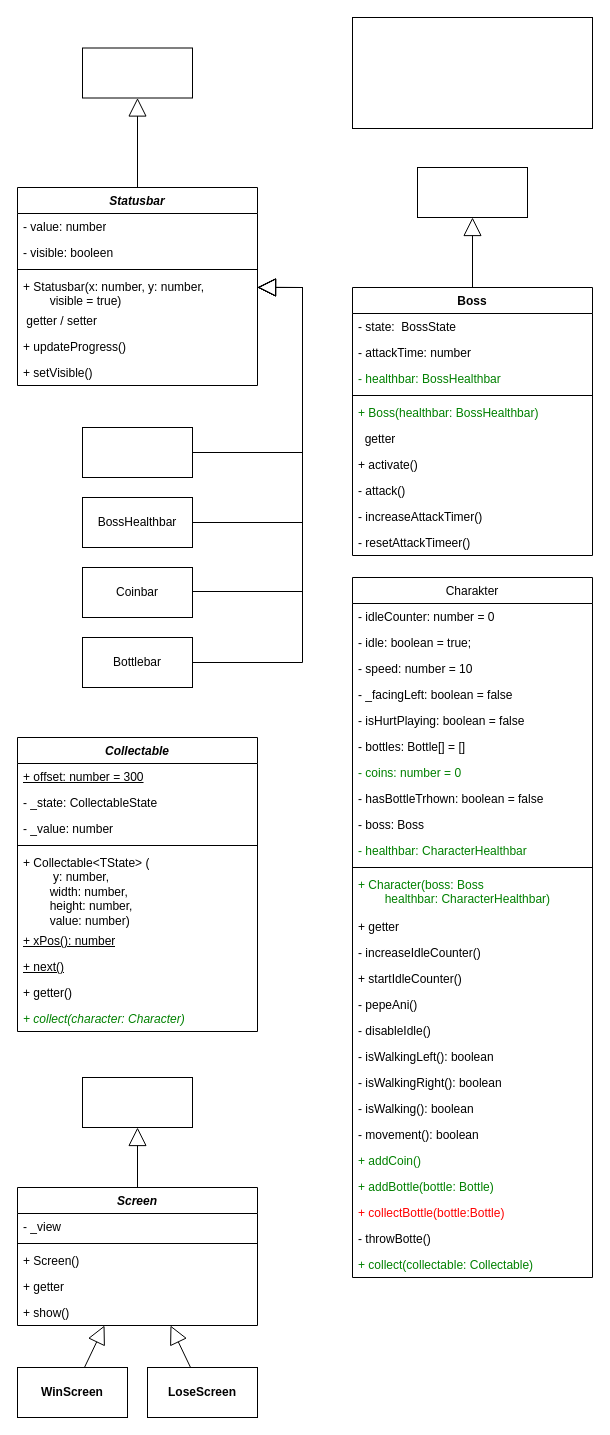
This 610x1435 diagram has some shape labels left out. Each missing label, with the centre of its shape:
"<<Enumeration>> BossState idle, walk, attack, hurt" goes at point (472, 72).
"AnimatedOject" goes at point (137, 72).
"Background" goes at point (137, 1102).
"CharacterHealthbar" goes at point (137, 452).
"HealthyObject" goes at point (472, 192).
